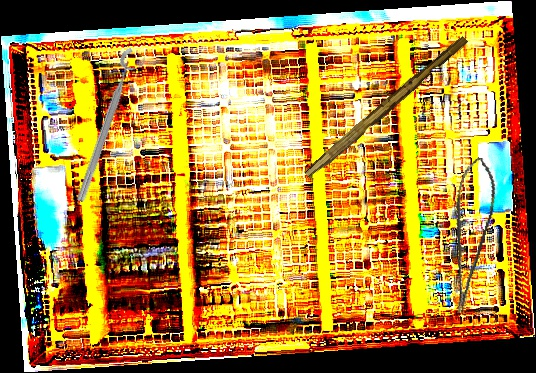Fixation Ring: (72, 46, 149, 207)
Micro Scissor: (428, 154, 506, 315)
Scalpel Handle: (303, 32, 470, 183)
